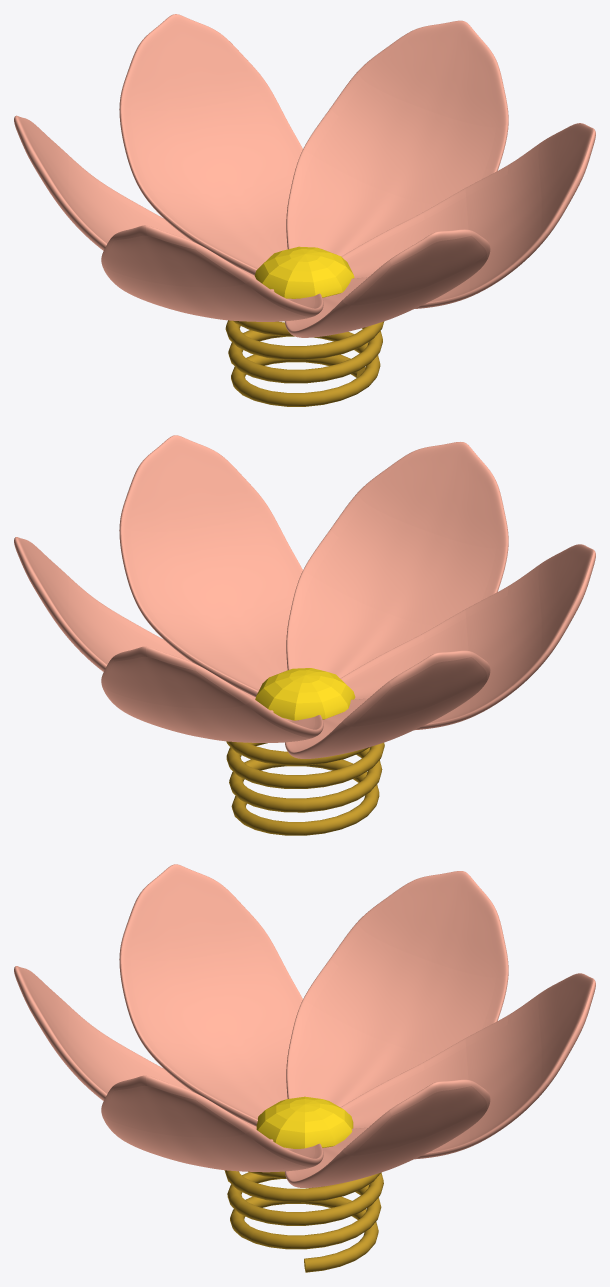
Rendered from springflower.fbx.
3 renders of one model, top to bottom at view 1: azimuth 30°, elevation 25°; view 2: azimuth 150°, elevation 25°; view 3: azimuth 270°, elevation 25°, orthographic.
Visible parts, largest first — view 1: polySurface8, polySurface7, polySurface9, polySurface11, polySurface10, Spiral, polySurface12, pSphere1; view 2: polySurface10, polySurface9, polySurface11, polySurface7, polySurface12, Spiral, polySurface8, pSphere1; view 3: polySurface12, polySurface11, polySurface7, polySurface9, polySurface8, Spiral, polySurface10, pSphere1.
Part boxes in pixels (bbox=[...]): polySurface8: bbox=[286, 20, 508, 256]; polySurface7: bbox=[119, 14, 302, 275]; polySurface9: bbox=[341, 123, 595, 308]; polySurface11: bbox=[101, 225, 323, 321]; polySurface10: bbox=[285, 229, 490, 337]; Spiral: bbox=[225, 320, 384, 406]; polySurface12: bbox=[14, 115, 274, 291]; pSphere1: bbox=[254, 246, 354, 298]; polySurface10: bbox=[286, 442, 508, 678]; polySurface9: bbox=[119, 435, 302, 697]; polySurface11: bbox=[340, 544, 595, 730]; polySurface7: bbox=[101, 646, 323, 742]; polySurface12: bbox=[285, 650, 490, 758]; Spiral: bbox=[226, 741, 384, 835]; polySurface8: bbox=[14, 537, 273, 712]; pSphere1: bbox=[255, 668, 355, 720]; polySurface12: bbox=[286, 871, 508, 1107]; polySurface11: bbox=[119, 864, 302, 1126]; polySurface7: bbox=[340, 973, 595, 1159]; polySurface9: bbox=[101, 1075, 323, 1172]; polySurface8: bbox=[285, 1079, 490, 1187]; Spiral: bbox=[224, 1170, 383, 1272]; polySurface10: bbox=[14, 966, 273, 1141]; pSphere1: bbox=[256, 1096, 353, 1148].
Bounding box in the file's own units: 1460 × 805 × 1570.
